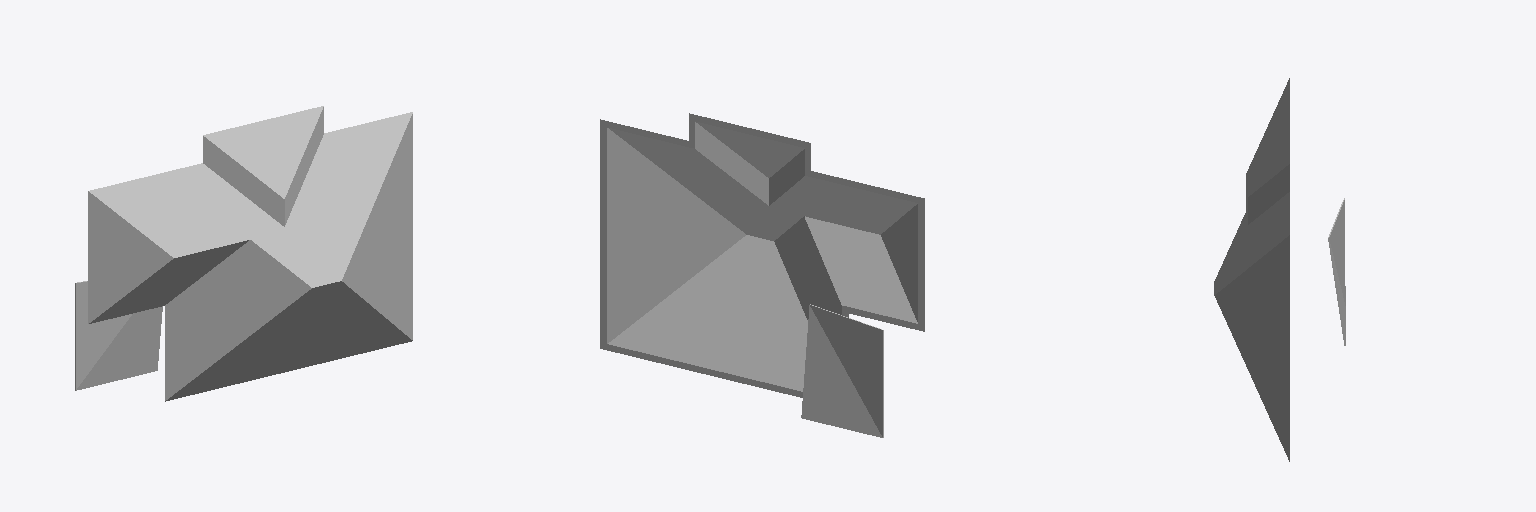
File: Dach.obj
3 renders of one model, left to right at view 1: azimuth 30°, elevation 25°; view 2: azimuth 150°, elevation 25°; view 3: azimuth 270°, elevation 25°, orthographic.
Size of the model in its own units: 15947 by 12058 by 5572.